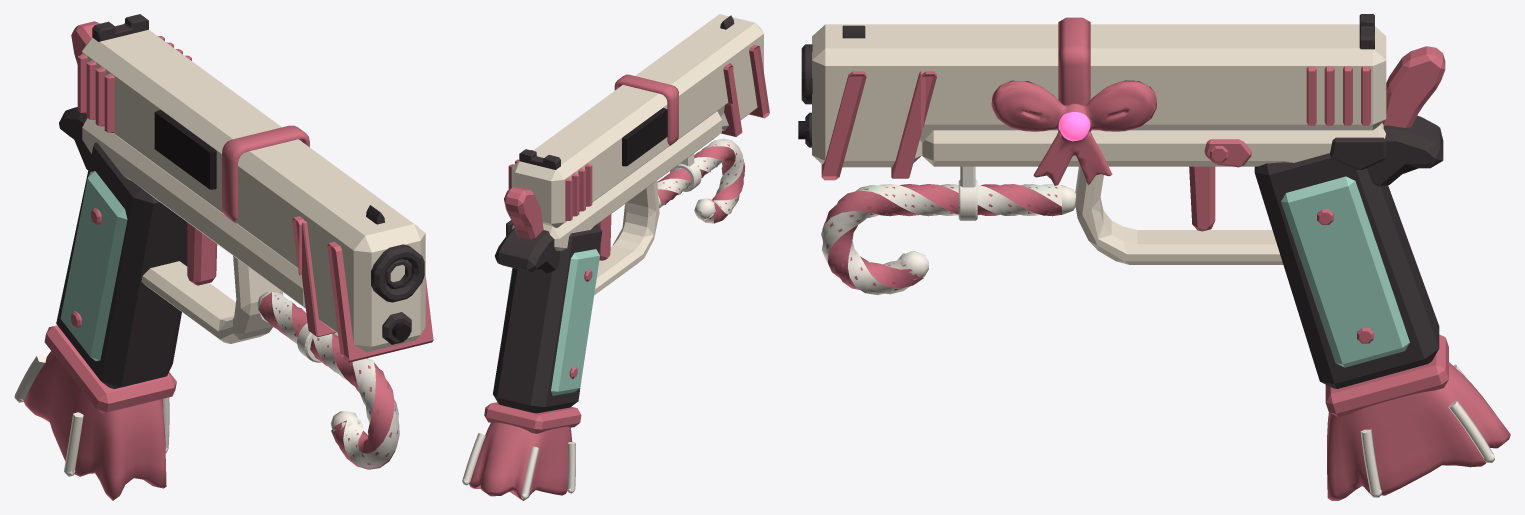
File: w_pistol@pistol_cute_d.glb
3 renders of one model, left to right at view 1: azimuth 30°, elevation 25°; view 2: azimuth 150°, elevation 25°; view 3: azimuth 270°, elevation 25°, orthographic. The views are drawn at different scales.
Visible parts, largest first — view 1: slide_wzA__main__pefe4d3, grip_wzB__cdark__p3d3638, mag_wzN__main2__pcf6d7e, body_wzB__main__pefe4d3, slide_wzN__main2__pcf6d7e, grip_wzA__soft__pa3d6c4, cane_wzN__ctrim__pf7f1e6, cane_wzN__main2__pcf6d7e, slide_wzN__cdark__p3d3638, slide_wzN__cblack__p231e20, mag_wzN__ctrim__pf7f1e6, body_wzB__main2__pcf6d7e (+1 smaller); view 2: slide_wzA__main__pefe4d3, grip_wzB__cdark__p3d3638, mag_wzN__main2__pcf6d7e, body_wzB__main__pefe4d3, slide_wzN__main2__pcf6d7e, grip_wzA__soft__pa3d6c4, cane_wzN__ctrim__pf7f1e6, cane_wzN__main2__pcf6d7e, hammer_wzN__main2__pcf6d7e, slide_wzN__cblack__p231e20, mag_wzN__ctrim__pf7f1e6, slide_wzN__cdark__p3d3638 (+1 smaller); view 3: slide_wzA__main__pefe4d3, body_wzB__main__pefe4d3, slide_wzN__main2__pcf6d7e, grip_wzB__cdark__p3d3638, mag_wzN__main2__pcf6d7e, grip_wzA__soft__pa3d6c4, cane_wzN__ctrim__pf7f1e6, cane_wzN__main2__pcf6d7e, hammer_wzN__main2__pcf6d7e, slide_wzN__cdark__p3d3638, mag_wzN__ctrim__pf7f1e6, body_wzB__main2__pcf6d7e (+2 smaller).
Boxes of the visible parts, x1,y1,x2,y2 form: slide_wzA__main__pefe4d3: [82, 29, 425, 352]; grip_wzB__cdark__p3d3638: [56, 107, 187, 388]; mag_wzN__main2__pcf6d7e: [24, 325, 176, 500]; body_wzB__main__pefe4d3: [82, 118, 305, 343]; slide_wzN__main2__pcf6d7e: [77, 36, 433, 362]; grip_wzA__soft__pa3d6c4: [60, 171, 127, 360]; cane_wzN__ctrim__pf7f1e6: [257, 292, 399, 468]; cane_wzN__main2__pcf6d7e: [258, 292, 397, 469]; slide_wzN__cdark__p3d3638: [92, 14, 424, 344]; slide_wzN__cblack__p231e20: [154, 109, 410, 341]; mag_wzN__ctrim__pf7f1e6: [14, 353, 169, 476]; body_wzB__main2__pcf6d7e: [187, 222, 217, 285]; slide_wzA__main__pefe4d3: [511, 14, 763, 227]; grip_wzB__cdark__p3d3638: [493, 224, 602, 413]; mag_wzN__main2__pcf6d7e: [469, 402, 581, 500]; body_wzB__main__pefe4d3: [512, 111, 721, 294]; slide_wzN__main2__pcf6d7e: [508, 44, 769, 221]; grip_wzA__soft__pa3d6c4: [503, 249, 599, 395]; cane_wzN__ctrim__pf7f1e6: [657, 138, 743, 223]; cane_wzN__main2__pcf6d7e: [657, 140, 744, 223]; hammer_wzN__main2__pcf6d7e: [504, 187, 543, 239]; slide_wzN__cblack__p231e20: [622, 107, 667, 166]; mag_wzN__ctrim__pf7f1e6: [462, 433, 575, 499]; slide_wzN__cdark__p3d3638: [519, 15, 734, 169]; slide_wzA__main__pefe4d3: [812, 24, 1386, 167]; body_wzB__main__pefe4d3: [922, 123, 1385, 264]; slide_wzN__main2__pcf6d7e: [821, 17, 1370, 185]; grip_wzB__cdark__p3d3638: [1254, 115, 1443, 388]; mag_wzN__main2__pcf6d7e: [1325, 334, 1510, 500]; grip_wzA__soft__pa3d6c4: [1281, 176, 1409, 367]; cane_wzN__ctrim__pf7f1e6: [821, 166, 1075, 295]; cane_wzN__main2__pcf6d7e: [822, 184, 1061, 292]; hammer_wzN__main2__pcf6d7e: [1382, 46, 1445, 127]; slide_wzN__cdark__p3d3638: [801, 14, 1374, 147]; mag_wzN__ctrim__pf7f1e6: [1360, 364, 1494, 497]; body_wzB__main2__pcf6d7e: [1189, 166, 1215, 231].
Size of the model in its own units: 0.0688 by 0.2694 by 0.3748.
